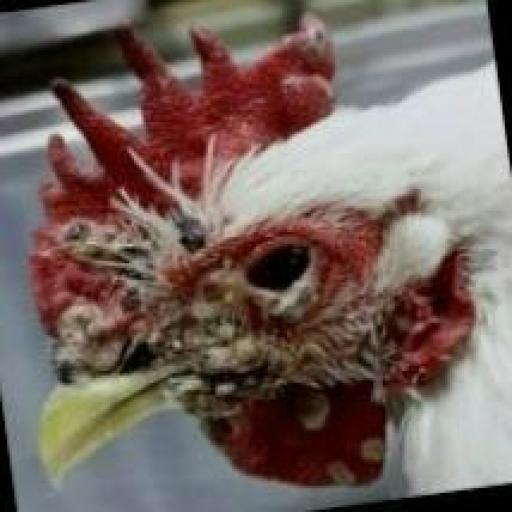disease: (55, 206, 392, 425), (276, 22, 343, 104), (321, 448, 375, 494)
